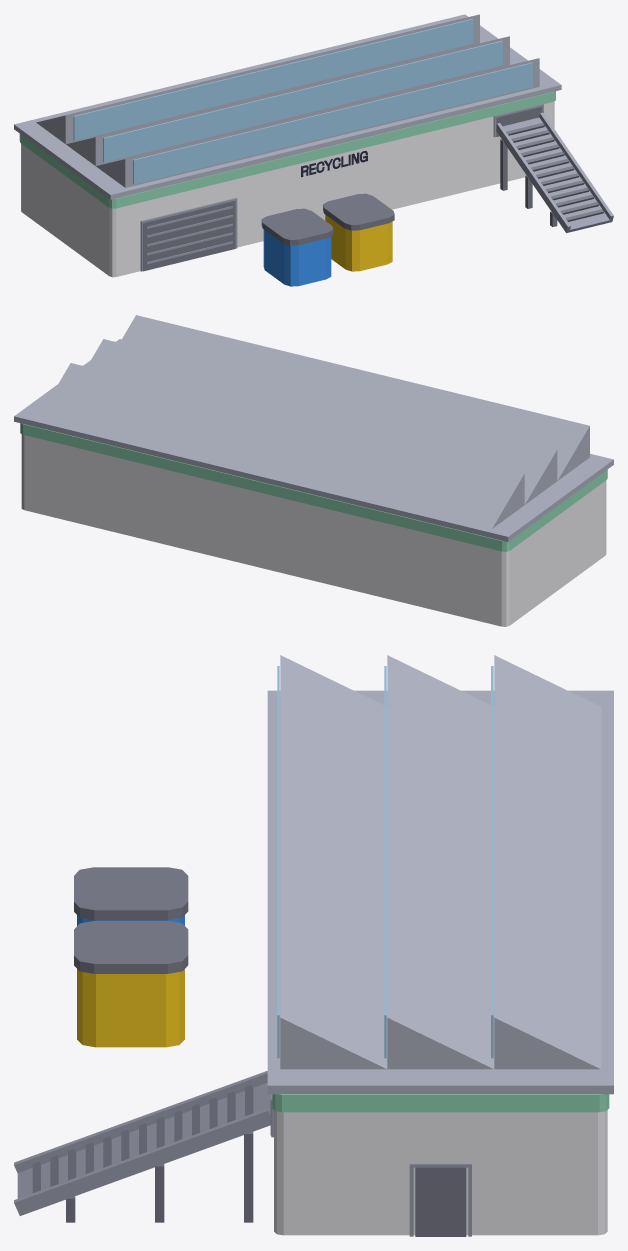
Rendered from recycling-3x2-t2.glb.
3 renders of one model, top to bottom at view 1: azimuth 30°, elevation 25°; view 2: azimuth 150°, elevation 25°; view 3: azimuth 270°, elevation 25°, orthographic. The views are drawn at different scales.
Parts seen in each view (by area): view 1: recycling-3x2-t2; view 2: recycling-3x2-t2; view 3: recycling-3x2-t2.
Part boxes in pixels (x1,y1,x2,y2): recycling-3x2-t2: (14, 14, 613, 286); recycling-3x2-t2: (14, 315, 613, 626); recycling-3x2-t2: (14, 655, 613, 1236).
Size of the model in its own units: 2.94 by 0.71 by 1.89.
Materials: 1 (1 with a texture image).
